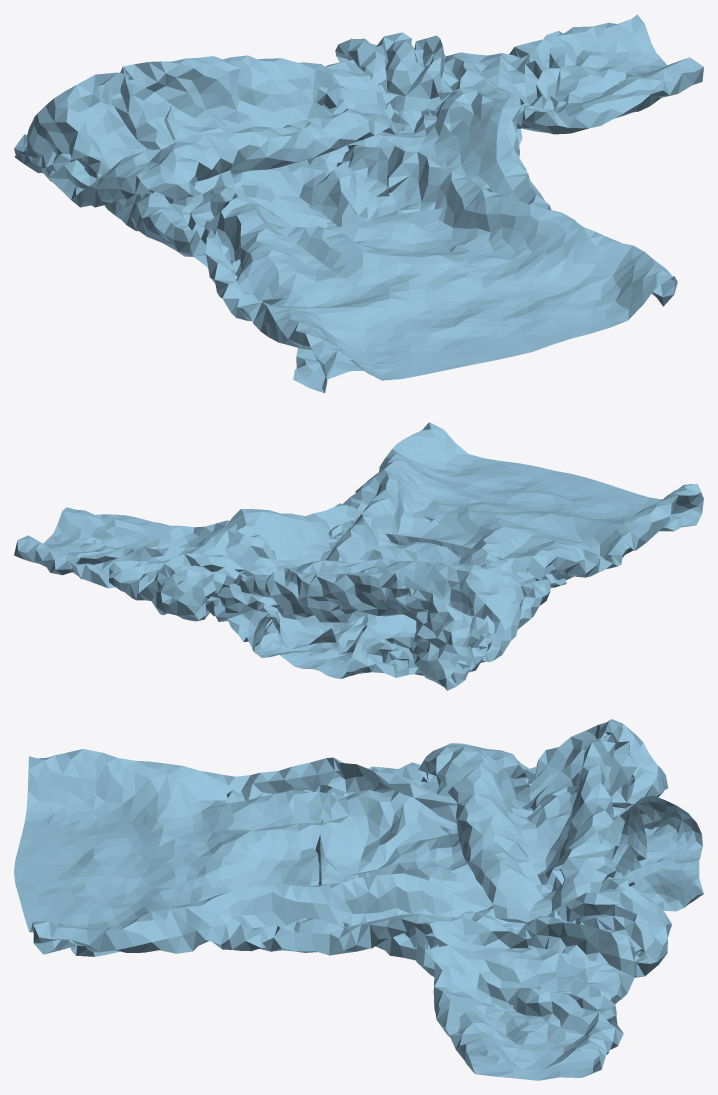
The model's file is frame_00.glb.
3 renders of one model, top to bottom at view 1: azimuth 30°, elevation 25°; view 2: azimuth 150°, elevation 25°; view 3: azimuth 270°, elevation 25°, orthographic. The views are drawn at different scales.
Visible parts, largest first — view 1: frame_00.obj; view 2: frame_00.obj; view 3: frame_00.obj.
Boxes of the visible parts, bbox=[...] form: frame_00.obj: bbox=[14, 14, 703, 393]; frame_00.obj: bbox=[14, 422, 703, 690]; frame_00.obj: bbox=[14, 719, 703, 1080].
Bounding box in the file's own units: 1.46 × 0.2456 × 1.42.
